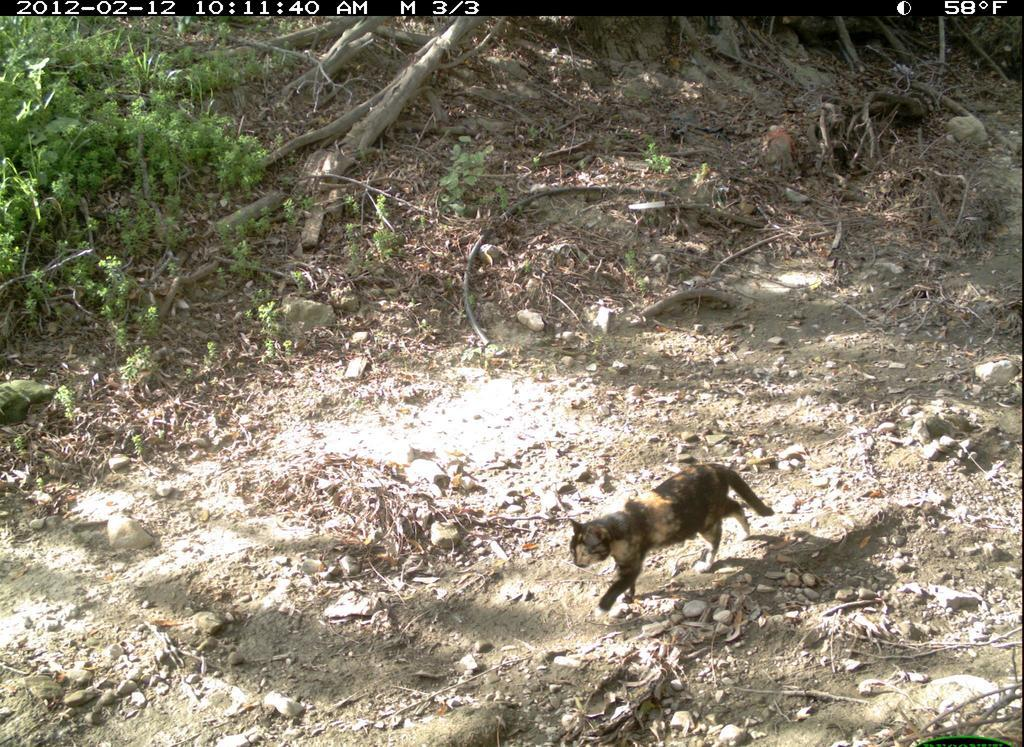cat: (569, 461, 777, 617)
